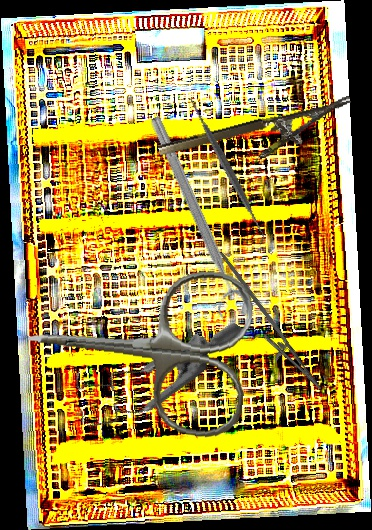Fixation Ring: (133, 112, 255, 327)
Iris Scissors: (19, 251, 257, 443)
Needle Holder: (196, 251, 337, 400), (157, 95, 359, 183)
Spatula Surgical: (150, 91, 305, 246)
Speculum: (56, 266, 245, 470)
